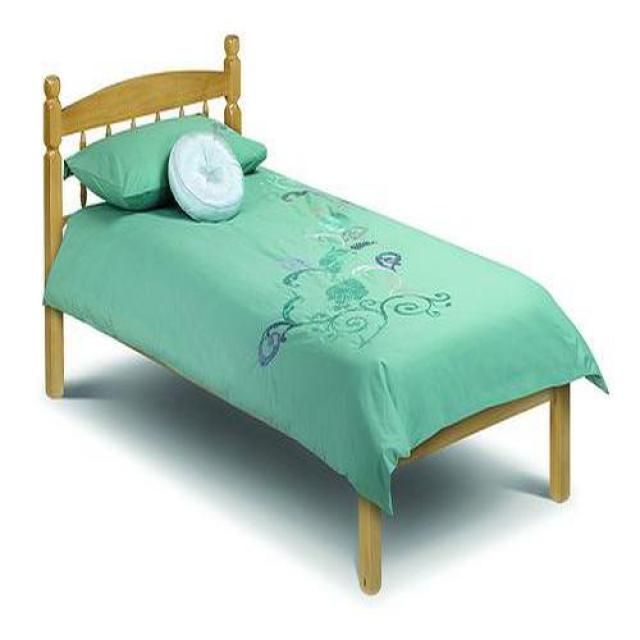bed: (44, 36, 611, 598)
